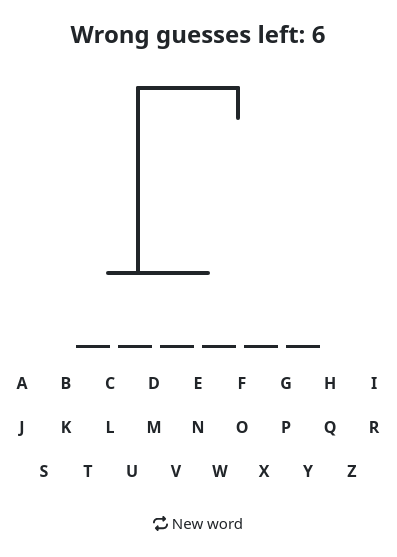
keyboard input guesses letters and new word resets the board
Press z
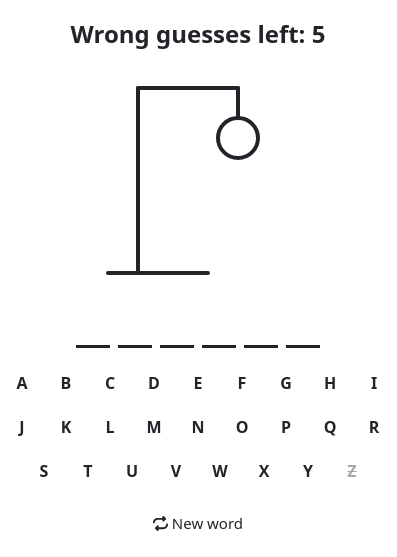
expect the text "Wrong guesses left: 5" is shown: met, box [71, 16, 325, 52]
Click the button "New word": (198, 523) [139, 506, 257, 540]
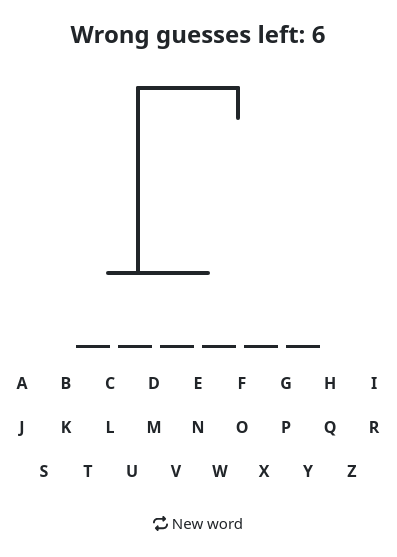
expect the text "Wrong guesses left: 6" is shown: met, box [71, 16, 325, 52]
